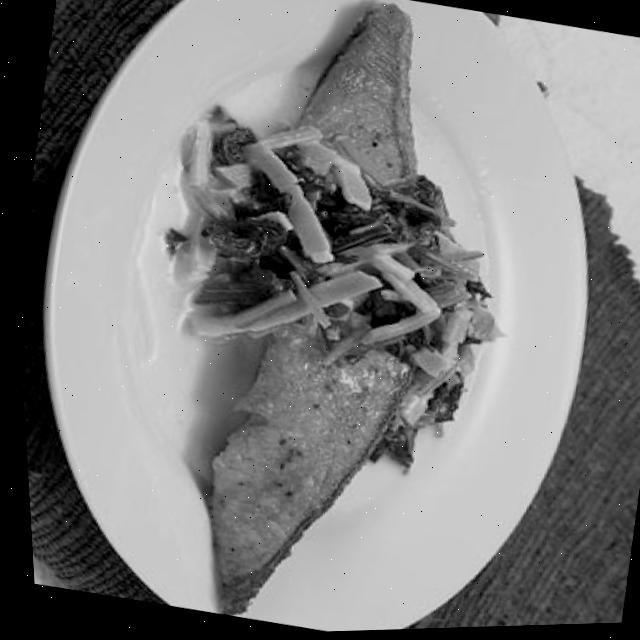熟制海鲜: (116, 0, 507, 637)
